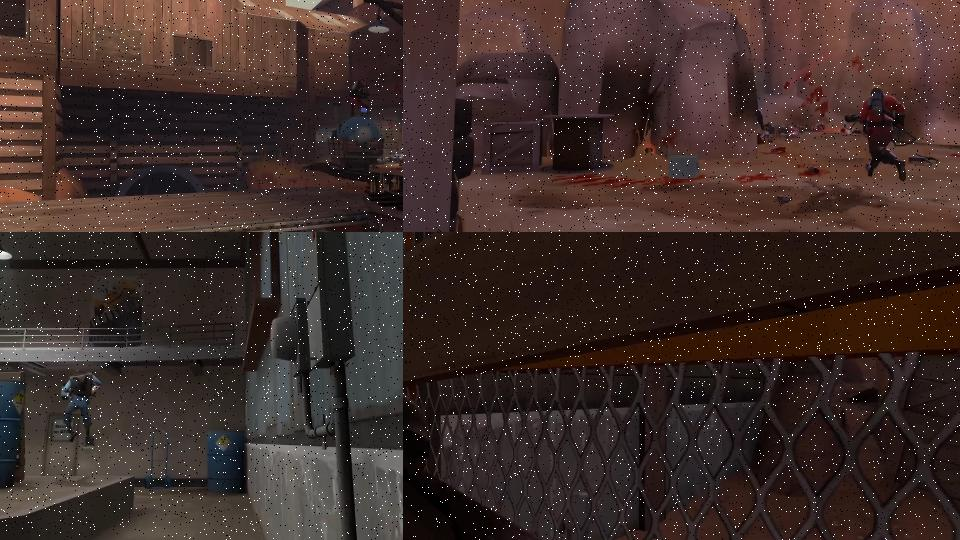Enemy: (841, 82, 917, 187), (61, 368, 102, 444), (348, 77, 370, 117)
